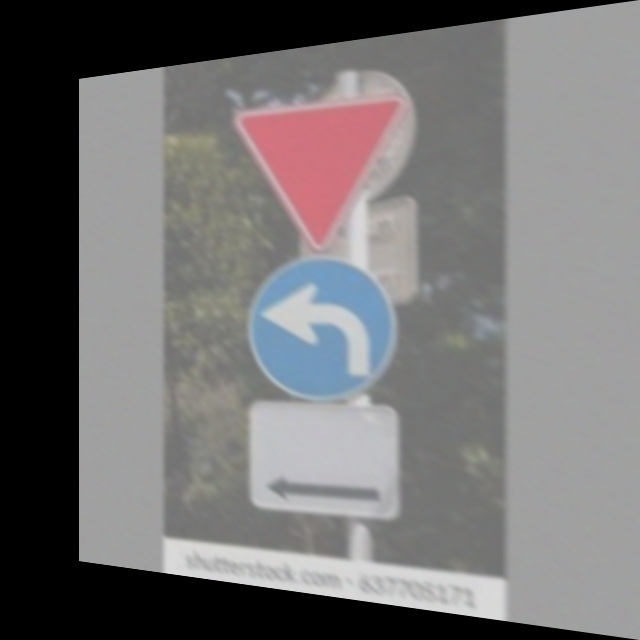Compulsory_Turn_Left_Ahead: (249, 257, 397, 402)
